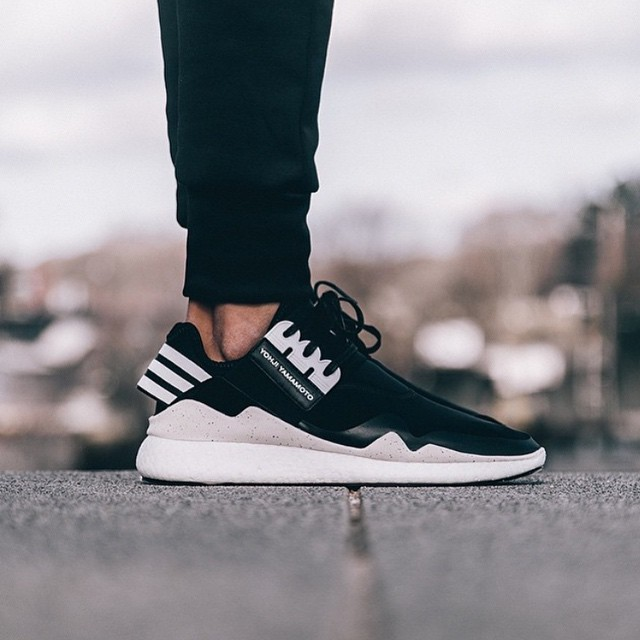sneaker: (97, 255, 568, 516)
